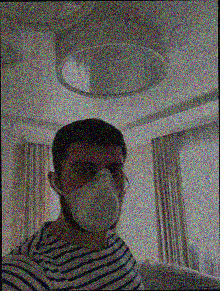with_mask: (66, 154, 126, 234)
